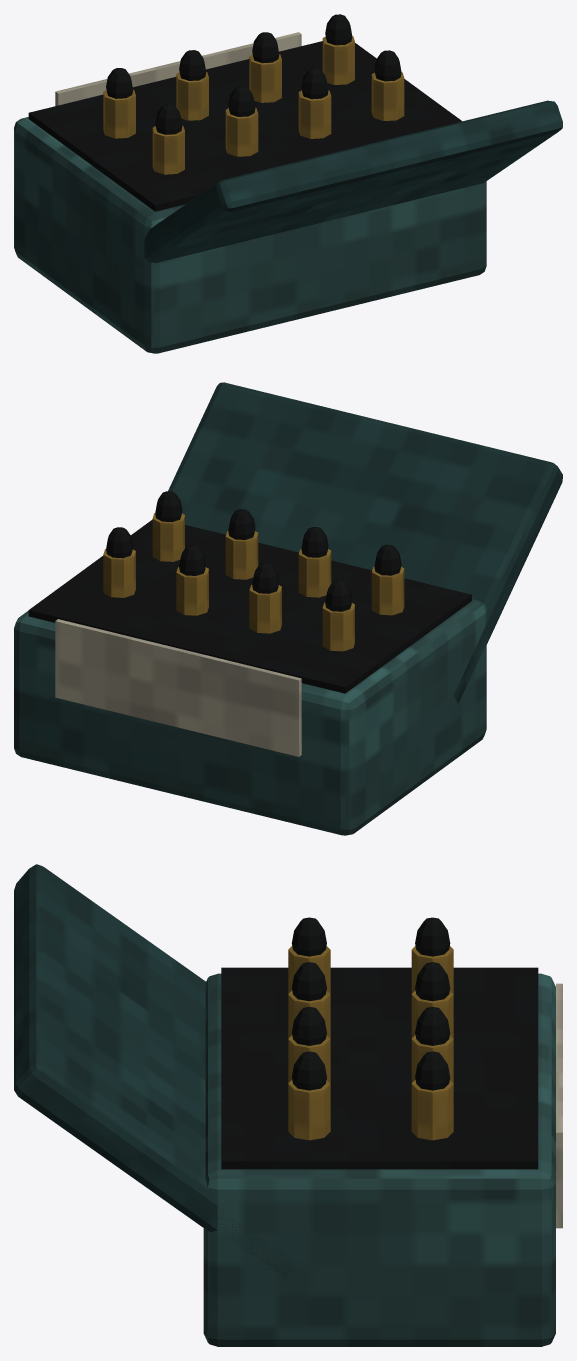
The model's file is ammo_box.glb.
3 renders of one model, top to bottom at view 1: azimuth 30°, elevation 25°; view 2: azimuth 150°, elevation 25°; view 3: azimuth 270°, elevation 25°, orthographic. The views are drawn at different scales.
Parts seen in each view (by area): view 1: ammo_box; view 2: ammo_box; view 3: ammo_box.
Boxes of the visible parts, left/top/right/bottom form: ammo_box: left=14, top=14, right=562, bottom=353; ammo_box: left=14, top=382, right=562, bottom=835; ammo_box: left=14, top=864, right=562, bottom=1346.
Size of the model in its own units: 0.14 by 0.0888 by 0.1559.
Materials: 5 (5 with a texture image).
